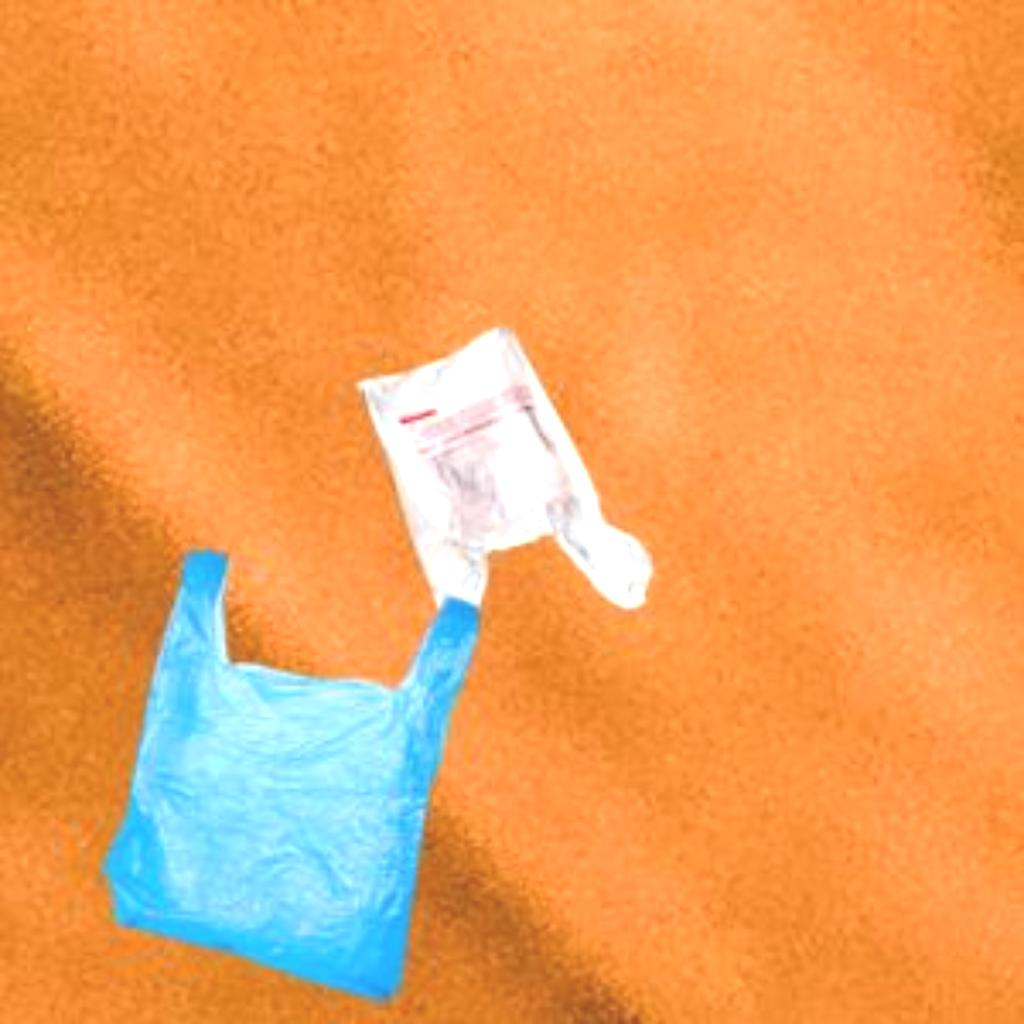garbage: (84, 522, 548, 990), (340, 305, 674, 667)
